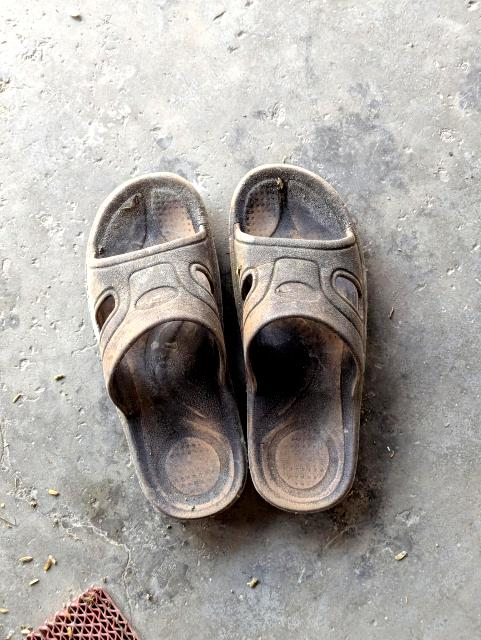sandal: (63, 154, 387, 547)
